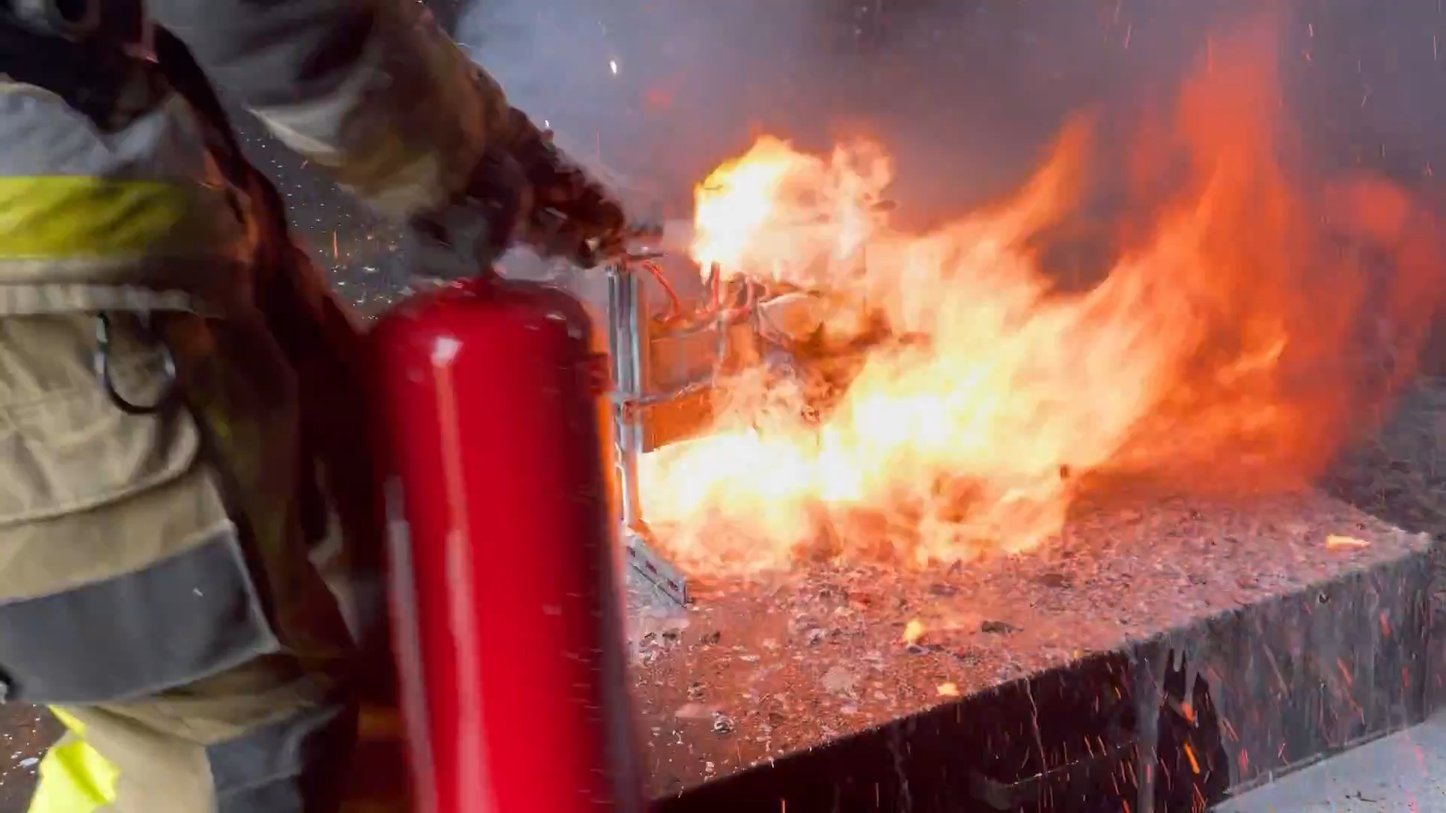fire: (629, 33, 1422, 604)
smoke: (471, 0, 1446, 273)
